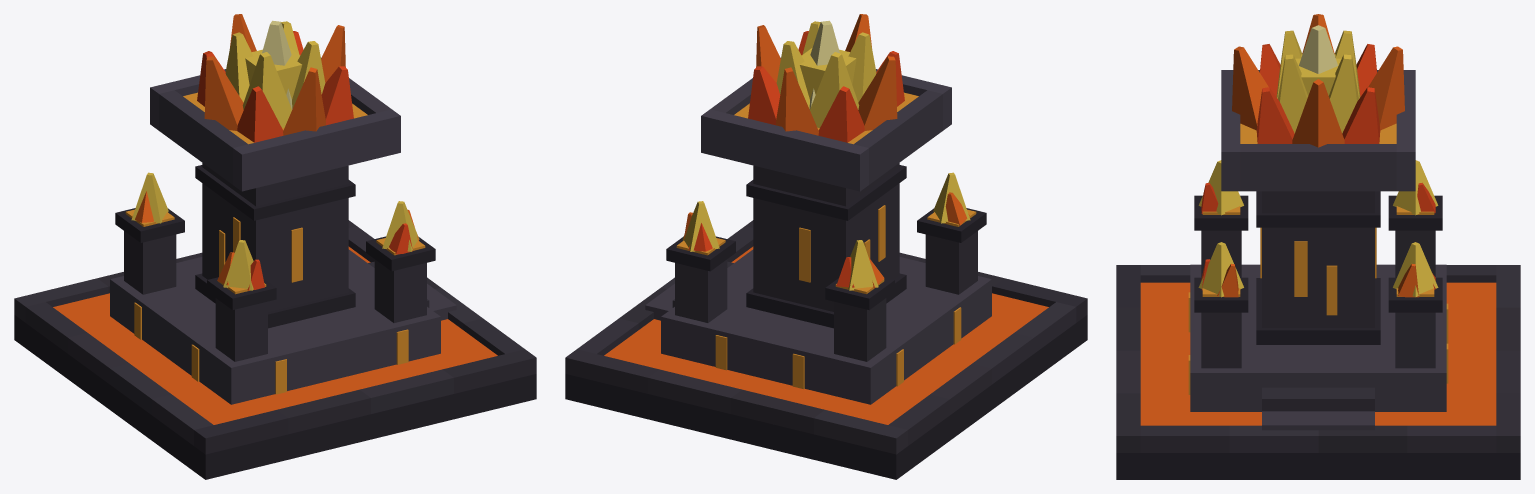
File: lava_altar.glb
3 renders of one model, left to right at view 1: azimuth 30°, elevation 25°; view 2: azimuth 150°, elevation 25°; view 3: azimuth 270°, elevation 25°, orthographic. The views are drawn at different scales.
Visible parts, largest first — view 1: lava_altar, Fire; view 2: lava_altar, Fire; view 3: lava_altar, Fire.
Part boxes in pixels (left/top/right/bottom): lava_altar: left=14, top=57, right=536, bottom=479; Fire: left=131, top=14, right=419, bottom=290; lava_altar: left=565, top=57, right=1087, bottom=479; Fire: left=682, top=14, right=970, bottom=290; lava_altar: left=1116, top=70, right=1520, bottom=479; Fire: left=1198, top=14, right=1438, bottom=297.
Size of the model in its own units: 3 by 3 by 3.
